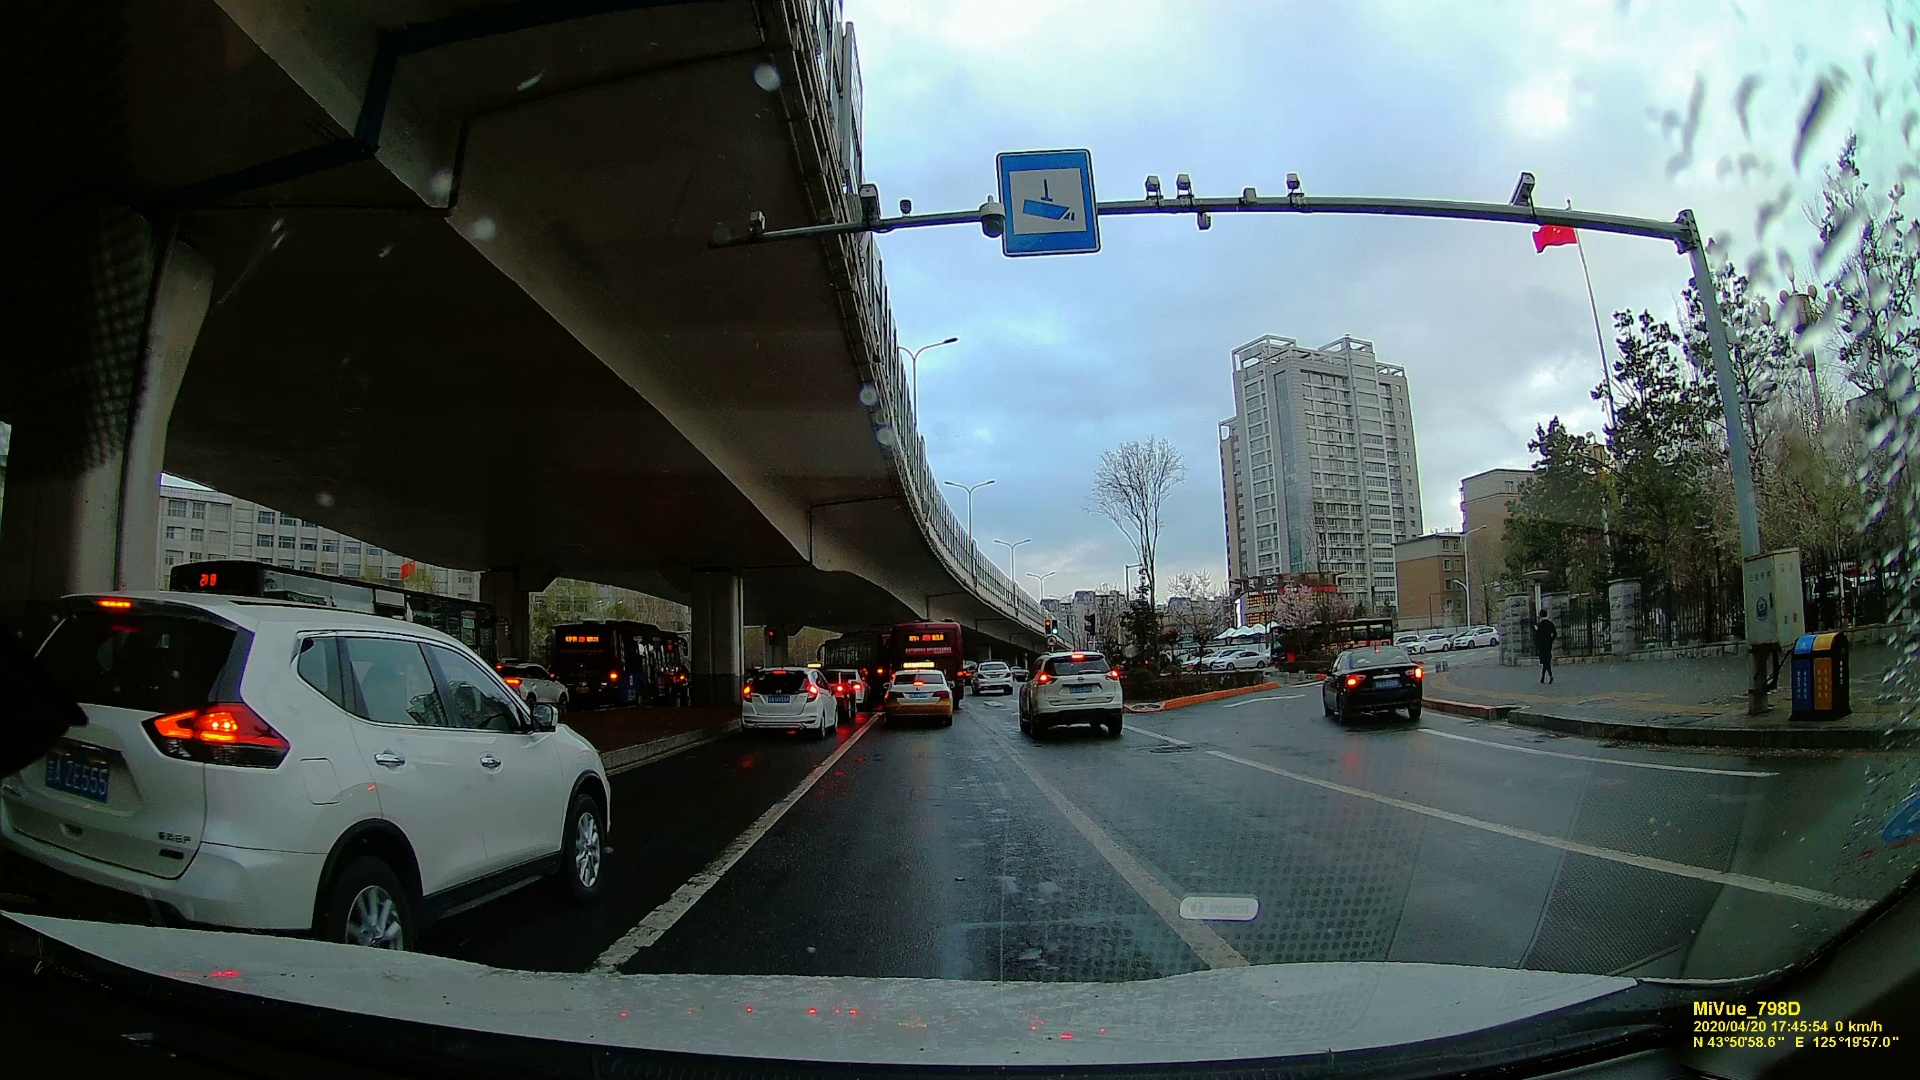bus: (550, 620, 692, 722), (897, 620, 963, 696)
person: (1529, 600, 1569, 698)
traffic_sign: (991, 146, 1101, 253)
vehicle: (23, 568, 605, 956), (1018, 647, 1127, 738), (1321, 644, 1429, 724), (738, 664, 840, 738), (496, 655, 564, 725), (878, 666, 950, 724), (970, 660, 1012, 693)
